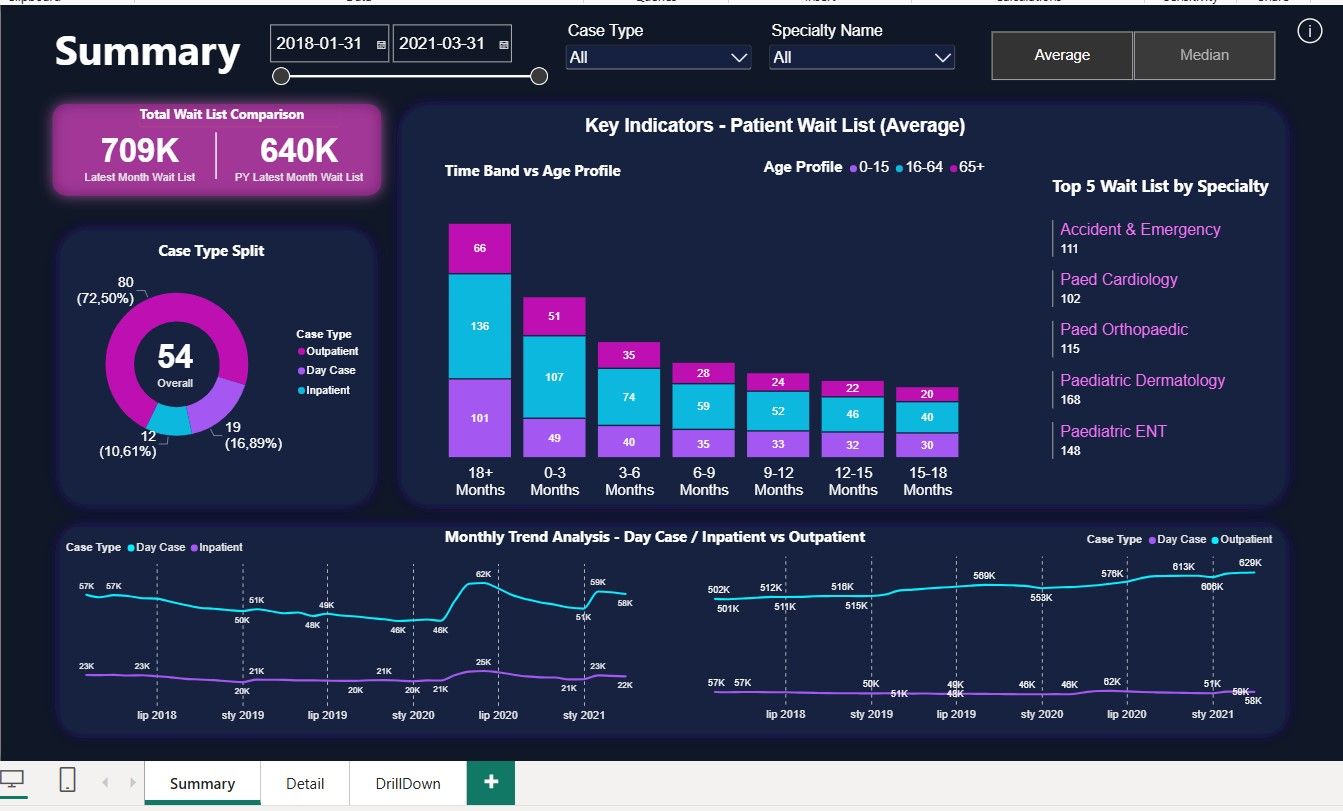

Layout of this report page (visuals, bound fields, positions):
{"tool":"powerbi","page":{"name":"Summary","canvas":[1920,1080],"ordinal":0},"visuals":[{"type":"shape","box":[64.3,725,1791.1,335.7],"z":0},{"type":"shape","box":[64,302,488,432],"z":1000},{"type":"shape","box":[53.6,120.9,510,170.9],"z":2000},{"type":"shape","box":[551.8,123.2,1303.6,610.7],"z":3000},{"type":"slicer","fields":{"Values":["Calculation Method.Calc Method"]},"box":[1394.7,35.7,444.6,73.2],"z":4000},{"type":"donutChart","fields":{"Category":["All_Data.Case_Type"],"Y":["All_Data.Avg/Med Wait List"]},"box":[64,302,474,424],"z":5000},{"type":"columnChart","fields":{"Category":["All_Data.Time_Bands"],"Series":["All_Data.Age_Profile"],"Y":["All_Data.Avg/Med Wait List"]},"box":[566.1,200,862,524],"z":6000},{"type":"multiRowCard","fields":{"Values":["All_Data.Specialty_Name","All_Data.Avg/Med Wait List"]},"box":[1485.7,292.9,383.9,410.7],"z":7000},{"type":"cardVisual","fields":{"Data":["All_Data.NoDataLeft"]},"box":[164,860,644,98],"z":8000},{"type":"lineChart","fields":{"Category":["All_Data.Archive_Date"],"Series":["All_Data.Case_Type"],"Y":["Sum(All_Data.Total)"]},"box":[76.8,744.6,862.5,298.2],"z":9000},{"type":"cardVisual","fields":{"Data":["All_Data.NoDataRight"]},"box":[1106,868,644,98],"z":10000},{"type":"lineChart","fields":{"Category":["All_Data.Archive_Date"],"Series":["All_Data.Case_Type"],"Y":["Sum(All_Data.Total)"]},"box":[975,733.9,862.5,307.1],"z":11000},{"type":"slicer","fields":{"Values":["All_Data.Archive_Date"]},"box":[376.8,23.2,408,96],"z":12000},{"type":"slicer","fields":{"Values":["All_Data.Case_Type"]},"box":[801.3,23.2,275,92.9],"z":13000},{"type":"slicer","fields":{"Values":["All_Data.Specialty_Name"]},"box":[1092.9,23.2,275,85.7],"z":14000},{"type":"textbox","box":[76,24,298,80],"z":15000},{"type":"cardVisual","fields":{"Data":["All_Data.Latest Month Wait List"]},"box":[82.8,163.3,232.2,116.7],"z":16000},{"type":"cardVisual","fields":{"Data":["All_Data.PY Latest Month Wait List"]},"box":[315,163.3,223.9,116.7],"z":17000},{"type":"cardVisual","fields":{"Data":["All_Data.Avg/Med Wait List"]},"box":[198.2,469.6,101,90],"z":18000},{"type":"shape","box":[268.8,182.5,78.8,66.2],"z":19000},{"type":"textbox","box":[198.3,143.3,283.8,30],"z":20000},{"type":"textbox","box":[633.9,221.4,278.6,62.5],"z":21000},{"type":"textbox","box":[225,335.7,201.8,37.5],"z":22000},{"type":"textbox","box":[633.9,744.6,617.9,42.9],"z":23000},{"type":"cardVisual","fields":{"Data":["All_Data.Dynamic Title"]},"box":[784,124,644,98],"z":24000},{"type":"actionButton","box":[1820,0,100,74],"z":25000},{"type":"textbox","box":[1501.8,241.1,335.7,60.7],"z":25001}]}

Visuals, with their boxes on the page's 1920x1080 design canvas (x1, y1, x2, y2). These are canvas units, not pixel positions in the 1343x811 screenshot, which may show the page scaled, cropped or inside an application window:
shape: pyautogui.locateOnScreen(64, 725, 1855, 1061)
shape: pyautogui.locateOnScreen(64, 302, 552, 734)
shape: pyautogui.locateOnScreen(54, 121, 564, 292)
shape: pyautogui.locateOnScreen(552, 123, 1855, 734)
slicer - Calculation Method.Calc Method: pyautogui.locateOnScreen(1395, 36, 1839, 109)
donutChart - All_Data.Case_Type x All_Data.Avg/Med Wait List: pyautogui.locateOnScreen(64, 302, 538, 726)
columnChart - All_Data.Time_Bands x All_Data.Age_Profile: pyautogui.locateOnScreen(566, 200, 1428, 724)
multiRowCard - All_Data.Specialty_Name x All_Data.Avg/Med Wait List: pyautogui.locateOnScreen(1486, 293, 1870, 704)
cardVisual - All_Data.NoDataLeft: pyautogui.locateOnScreen(164, 860, 808, 958)
lineChart - All_Data.Archive_Date x All_Data.Case_Type: pyautogui.locateOnScreen(77, 745, 939, 1043)
cardVisual - All_Data.NoDataRight: pyautogui.locateOnScreen(1106, 868, 1750, 966)
lineChart - All_Data.Archive_Date x All_Data.Case_Type: pyautogui.locateOnScreen(975, 734, 1838, 1041)
slicer - All_Data.Archive_Date: pyautogui.locateOnScreen(377, 23, 785, 119)
slicer - All_Data.Case_Type: pyautogui.locateOnScreen(801, 23, 1076, 116)
slicer - All_Data.Specialty_Name: pyautogui.locateOnScreen(1093, 23, 1368, 109)
textbox: pyautogui.locateOnScreen(76, 24, 374, 104)
cardVisual - All_Data.Latest Month Wait List: pyautogui.locateOnScreen(83, 163, 315, 280)
cardVisual - All_Data.PY Latest Month Wait List: pyautogui.locateOnScreen(315, 163, 539, 280)
cardVisual - All_Data.Avg/Med Wait List: pyautogui.locateOnScreen(198, 470, 299, 560)
shape: pyautogui.locateOnScreen(269, 182, 348, 249)
textbox: pyautogui.locateOnScreen(198, 143, 482, 173)
textbox: pyautogui.locateOnScreen(634, 221, 912, 284)
textbox: pyautogui.locateOnScreen(225, 336, 427, 373)
textbox: pyautogui.locateOnScreen(634, 745, 1252, 788)
cardVisual - All_Data.Dynamic Title: pyautogui.locateOnScreen(784, 124, 1428, 222)
actionButton: pyautogui.locateOnScreen(1820, 0, 1920, 74)
textbox: pyautogui.locateOnScreen(1502, 241, 1838, 302)
